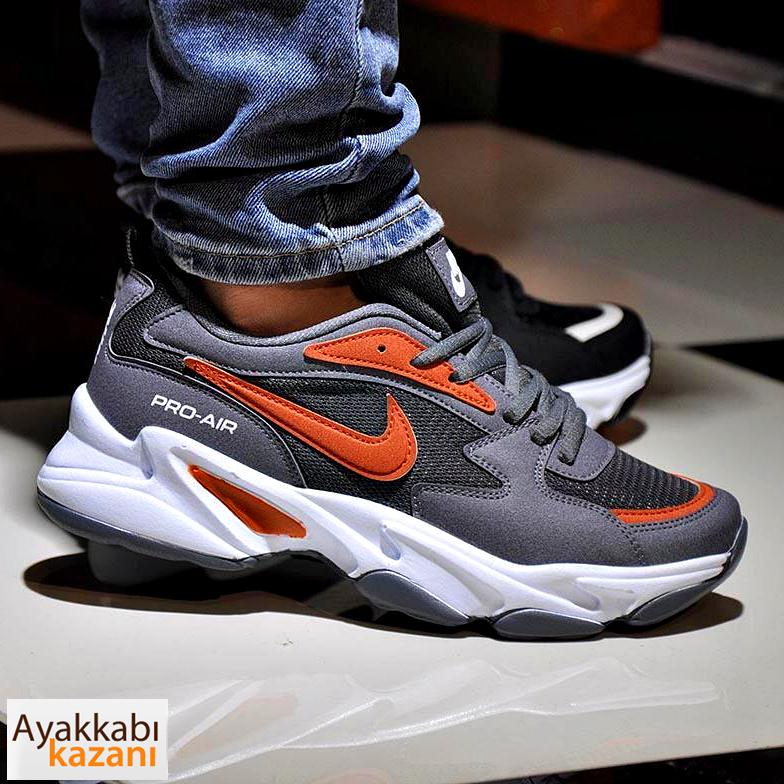nike: (175, 355, 424, 487)
